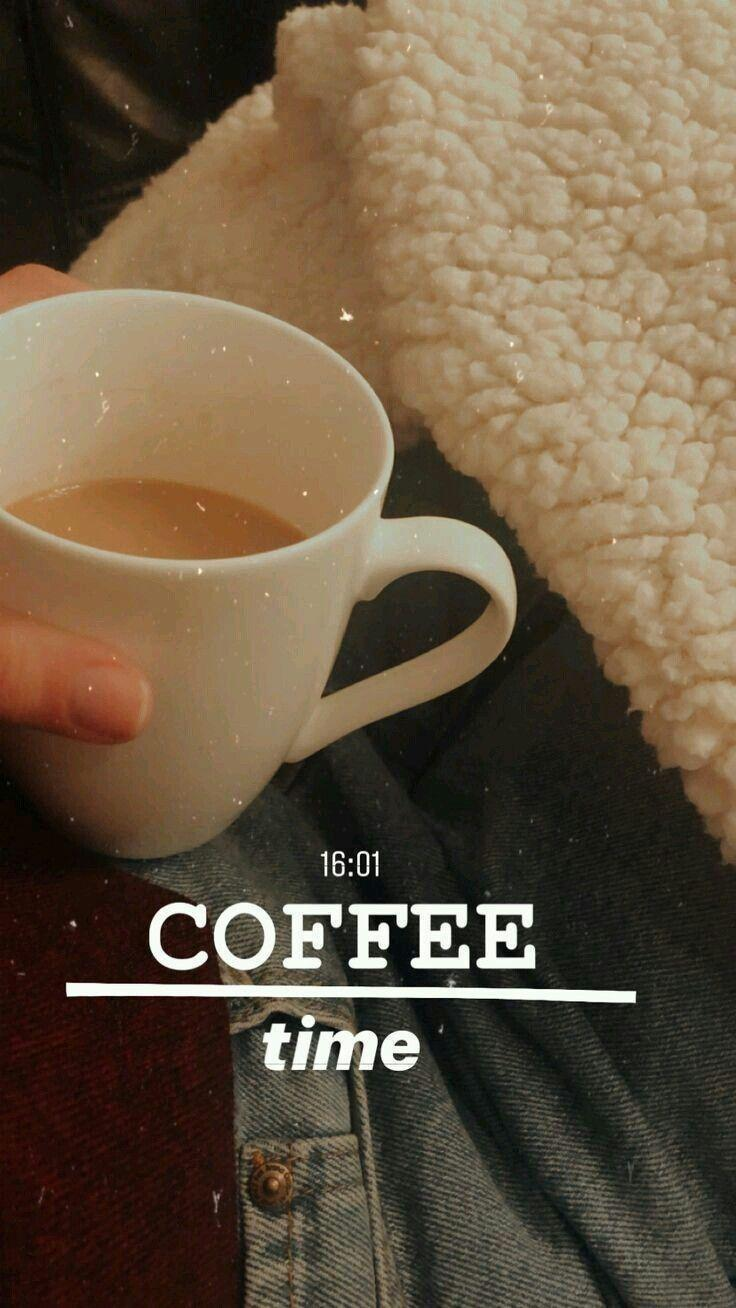cup-handle: (0, 280, 519, 863)
